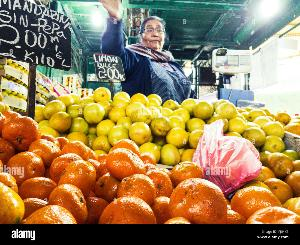apple: (16, 84, 296, 158), (130, 107, 152, 125)
orange: (0, 143, 300, 225), (169, 179, 227, 225)
